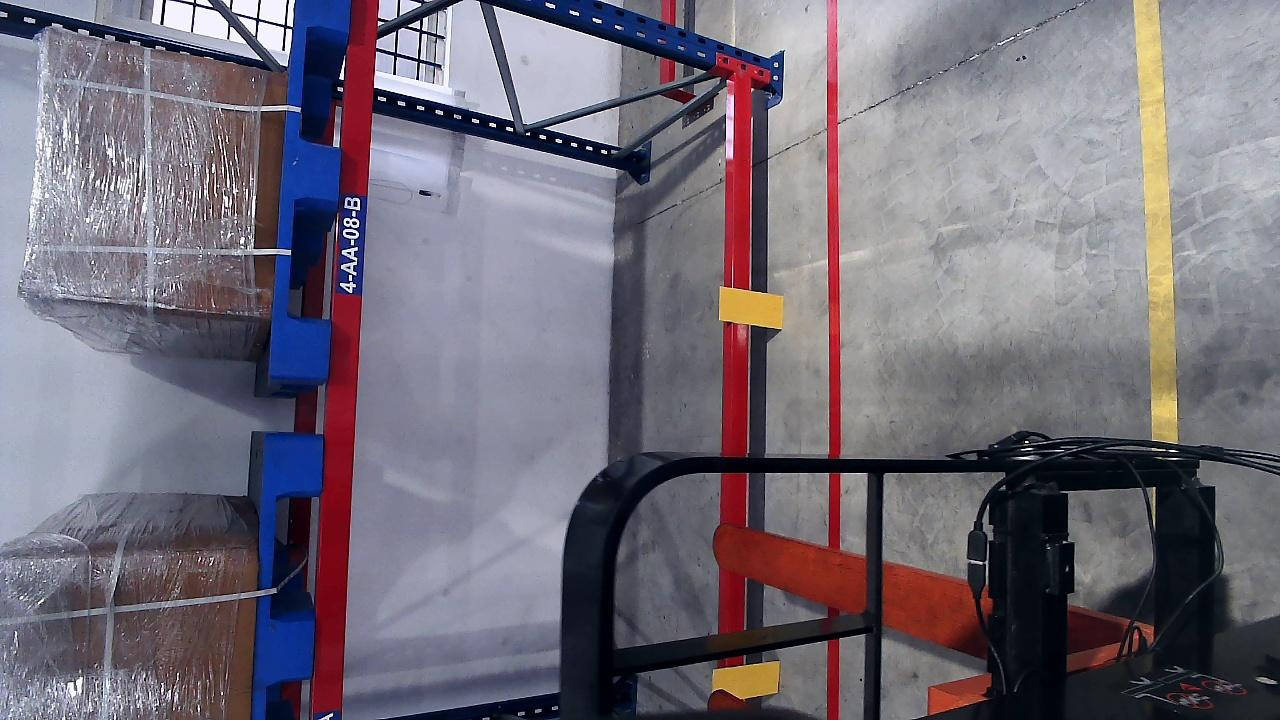h_rack: (343, 0, 380, 616), (726, 70, 759, 451)
orange_strip: (718, 287, 784, 329), (711, 660, 781, 698)
red_line: (822, 84, 844, 421)
small_pallet: (272, 0, 355, 370), (255, 438, 322, 718)
yellow_line: (1134, 0, 1180, 443)
